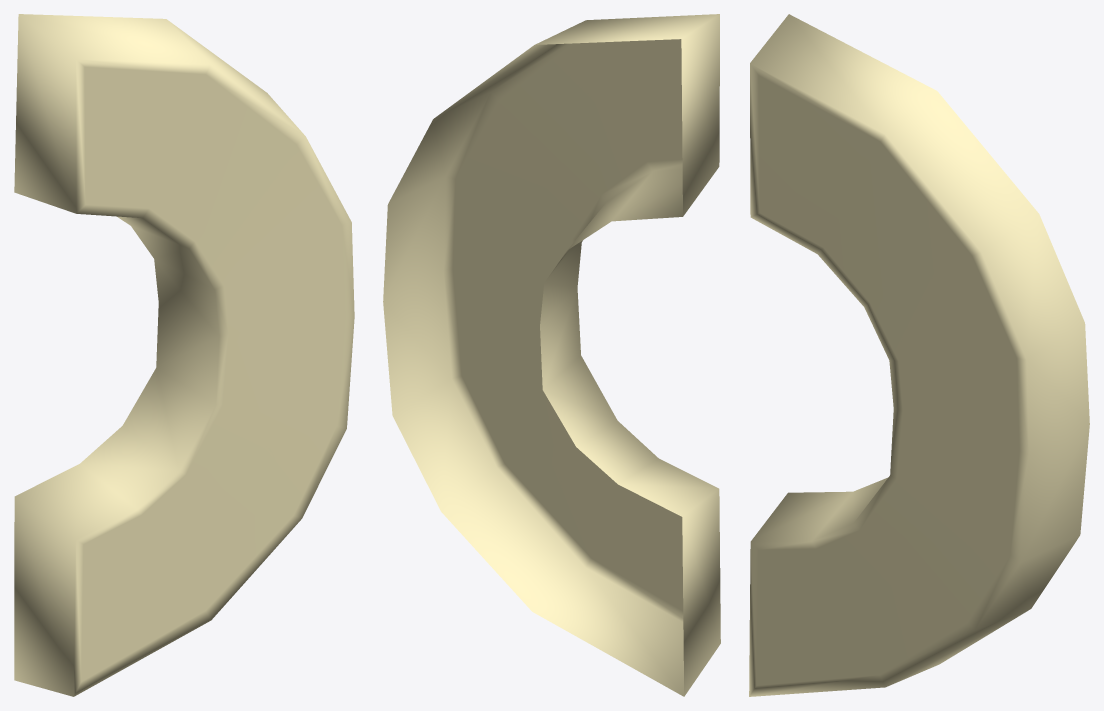
Rendered from ui_radialMenu_centerRight.glb.
The picture shows the model from 3 angles, left to right: view 1: azimuth 30°, elevation 25°; view 2: azimuth 150°, elevation 25°; view 3: azimuth 330°, elevation 25°; orthographic projection.
Visible parts, largest first — view 1: centerRight; view 2: centerRight; view 3: centerRight.
Part boxes in pixels (x1,y1,x2,y2): centerRight: (14, 14, 354, 696); centerRight: (383, 14, 720, 696); centerRight: (749, 14, 1089, 696).
Bounding box in the file's own units: 0.4355 × 0.9083 × 0.1241.
